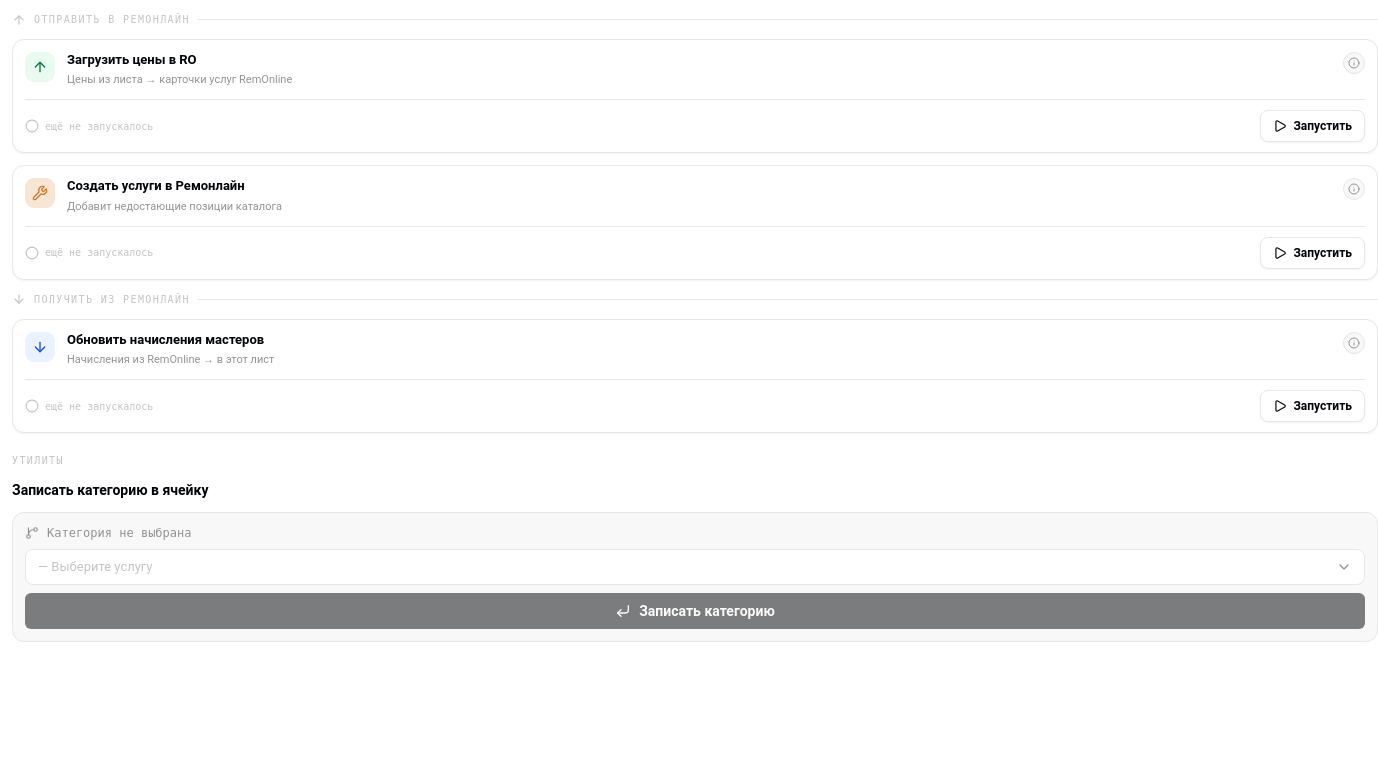
Test: RemonlinePanel › FR8: loads the category tree on mount and renders the root select with a placeholder
This screenshot has width=1378, height=780.
Click the dropdown named "Категория, уровень 1" at point(95, 567), box [25, 549, 1365, 585]
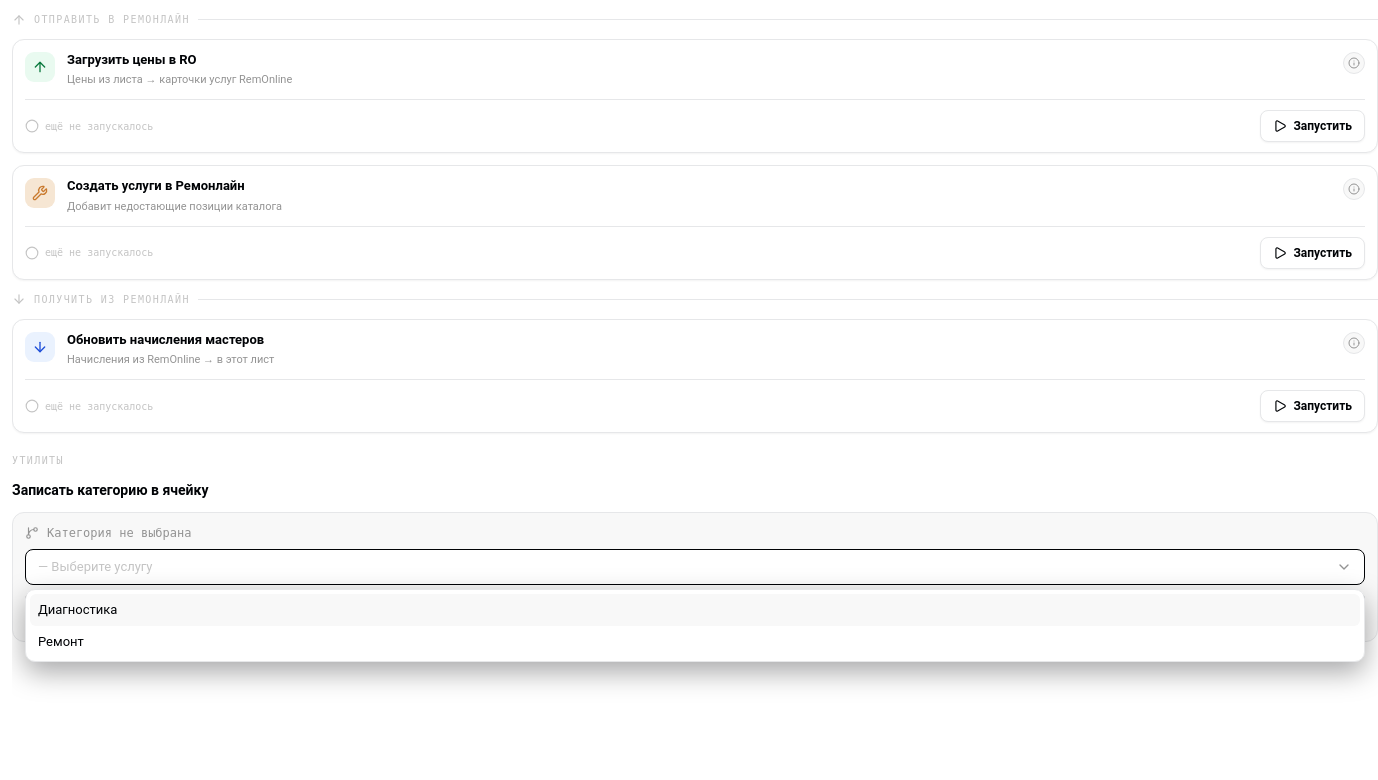
Check: the options read "Диагностика", "Ремонт", in this order, box [30, 594, 1360, 626]; [38, 634, 84, 648]
